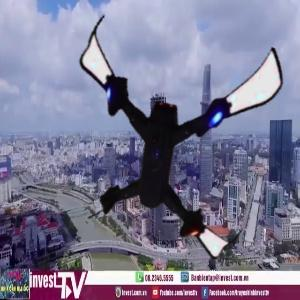drone: (49, 15, 277, 243)
